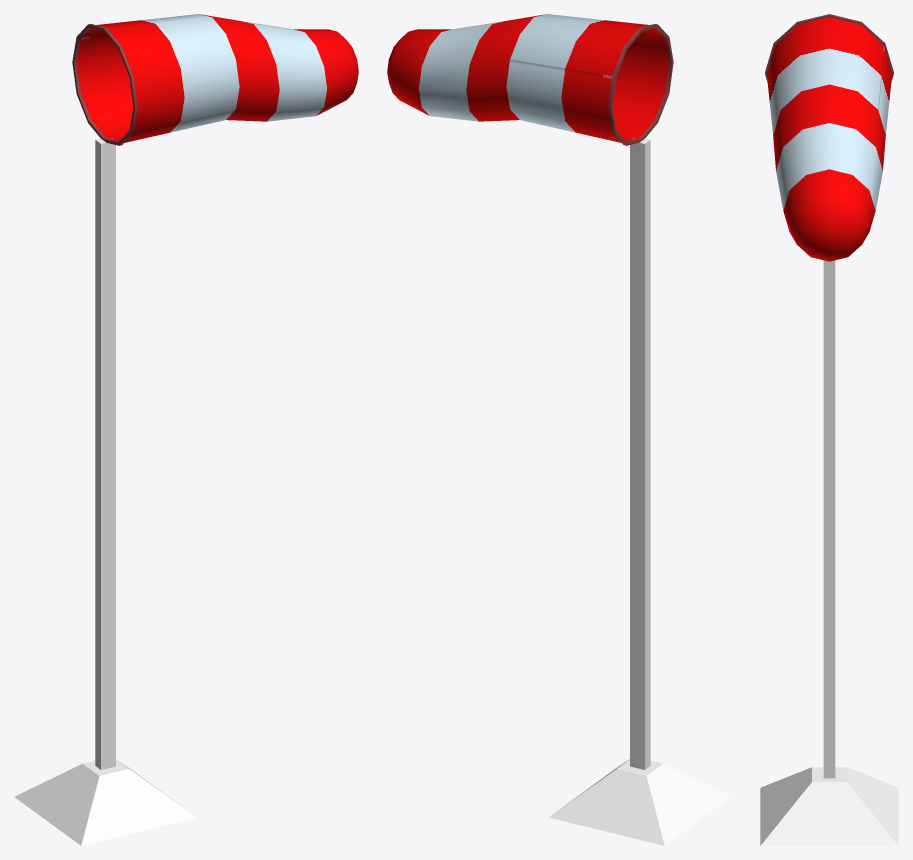
File: Wind meter.FBX
3 views of the same model, side by side, from view 1: azimuth 30°, elevation 25°; view 2: azimuth 150°, elevation 25°; view 3: azimuth 270°, elevation 25° (orthographic). The views are drawn at different scales.
Visible parts, largest first — view 1: Wind meter; view 2: Wind meter; view 3: Wind meter.
Part boxes in pixels (<box>): Wind meter: <box>14,14,358,845</box>; Wind meter: <box>387,14,731,845</box>; Wind meter: <box>760,14,898,845</box>.
Bounding box in the file's own units: 7.81 × 19.05 × 2.97.
